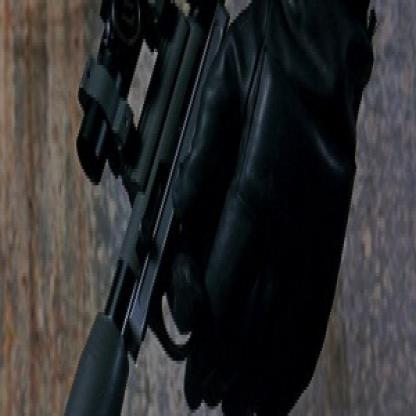gun: (39, 0, 299, 413)
